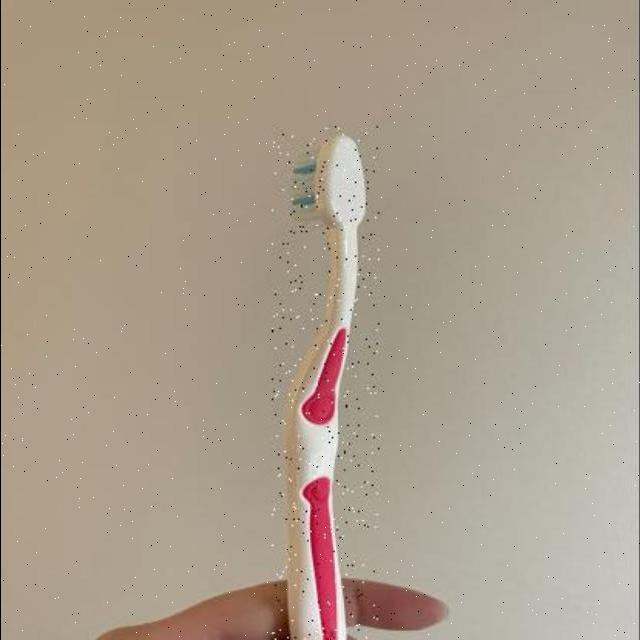toothbrush: (272, 126, 380, 640)
